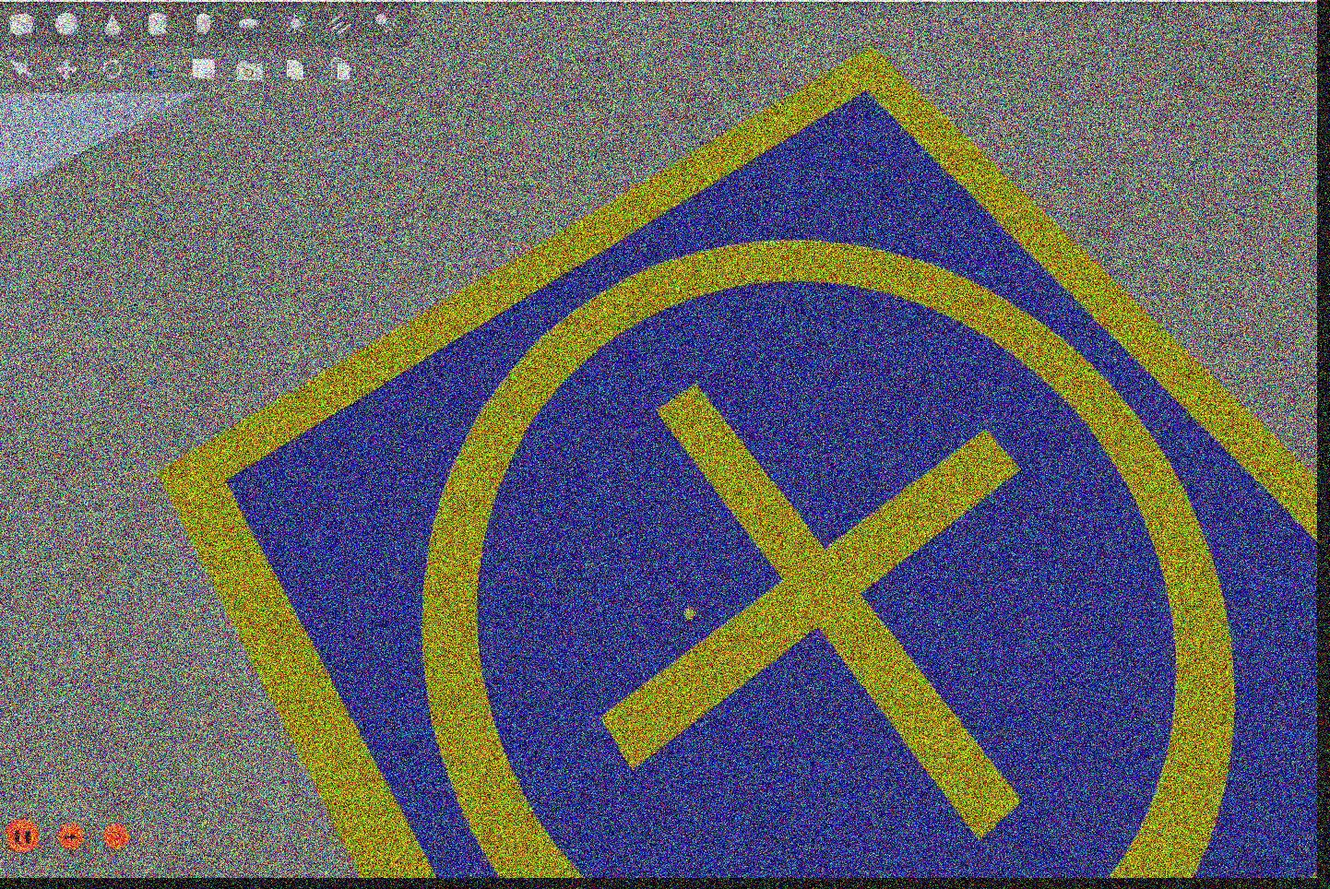small_base: (153, 47, 1319, 879)
